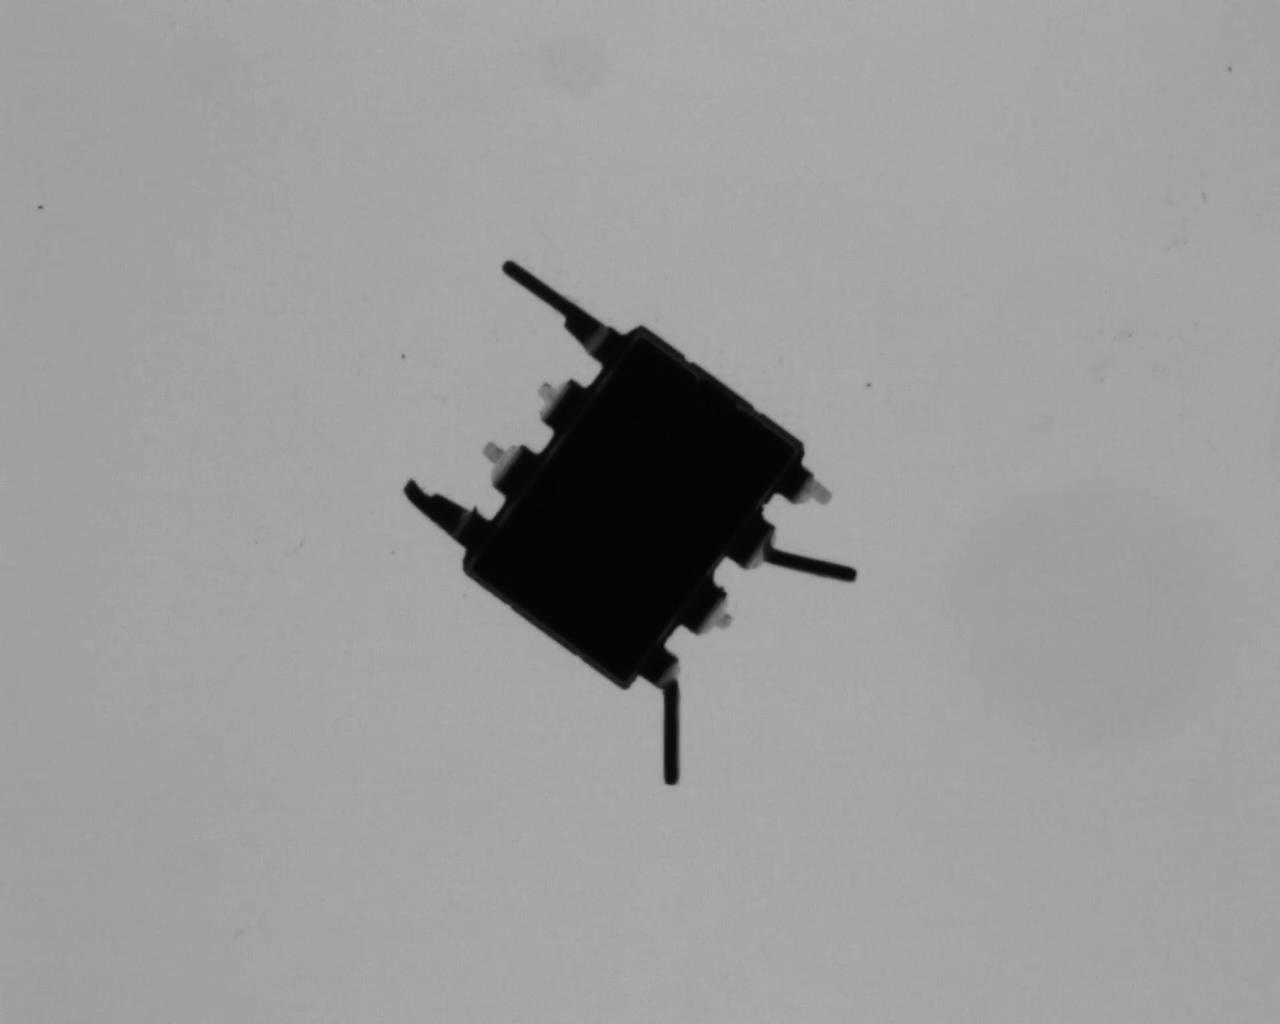Leg: (497, 253, 625, 362), (726, 517, 867, 584), (400, 475, 497, 557), (642, 638, 689, 789), (473, 433, 544, 501), (677, 572, 741, 643), (535, 376, 598, 433), (777, 455, 836, 510)
